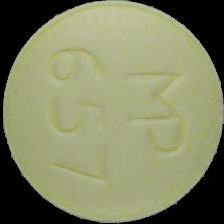53489-215: (0, 0, 224, 224)
